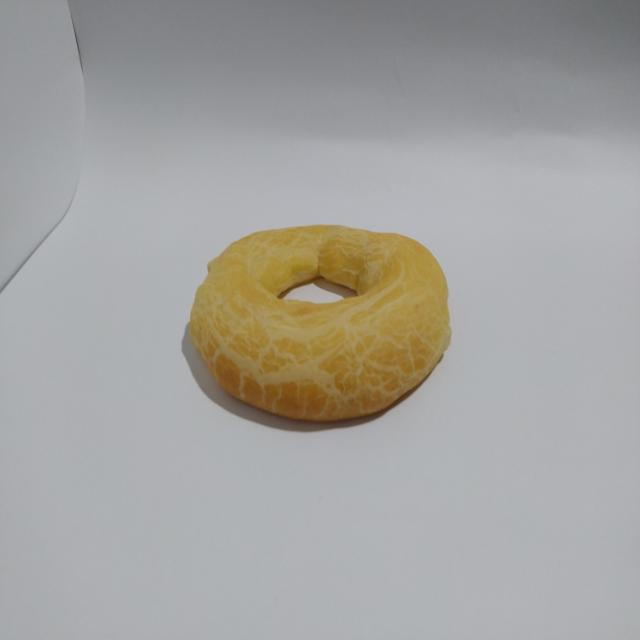Chipa: (178, 209, 458, 442)
